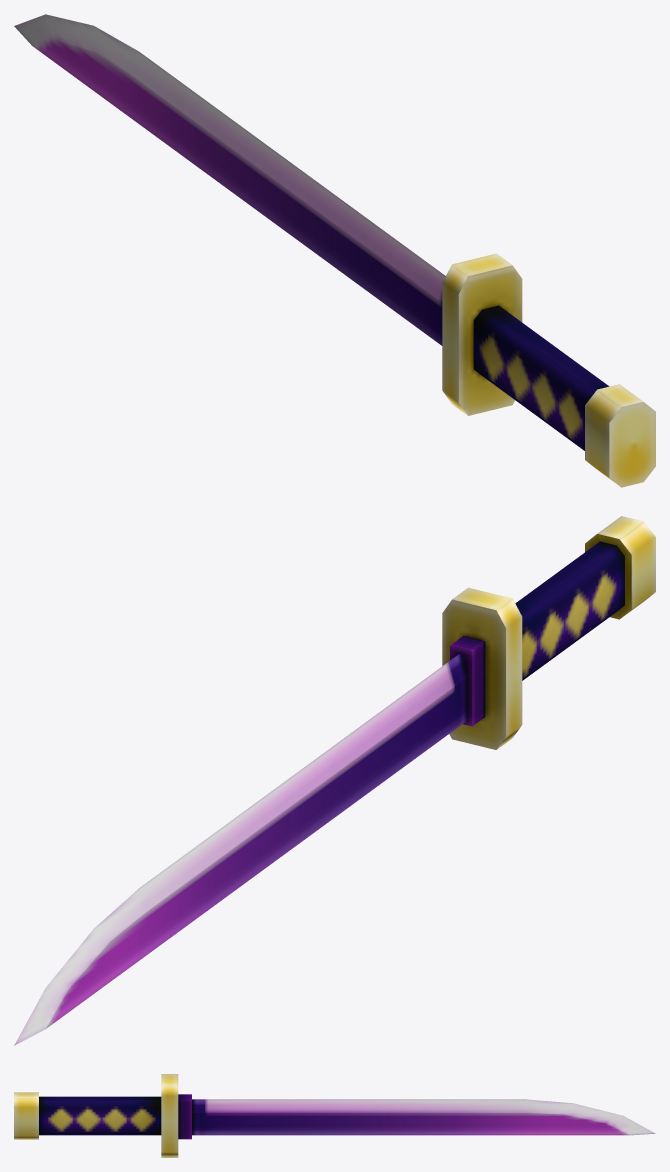
File: sword016.fbx
3 renders of one model, top to bottom at view 1: azimuth 30°, elevation 25°; view 2: azimuth 150°, elevation 25°; view 3: azimuth 270°, elevation 25°, orthographic. The views are drawn at different scales.
Parts seen in each view (by area): view 1: sword016; view 2: sword016; view 3: sword016.
Boxes of the visible parts, bbox=[...] form: sword016: bbox=[14, 14, 655, 487]; sword016: bbox=[14, 516, 655, 1045]; sword016: bbox=[14, 1074, 655, 1157].
Bounding box in the file's own units: 0.0477 × 0.1 × 0.8018.
